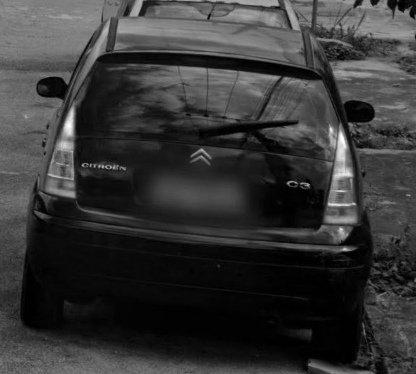car: (22, 14, 378, 365)
